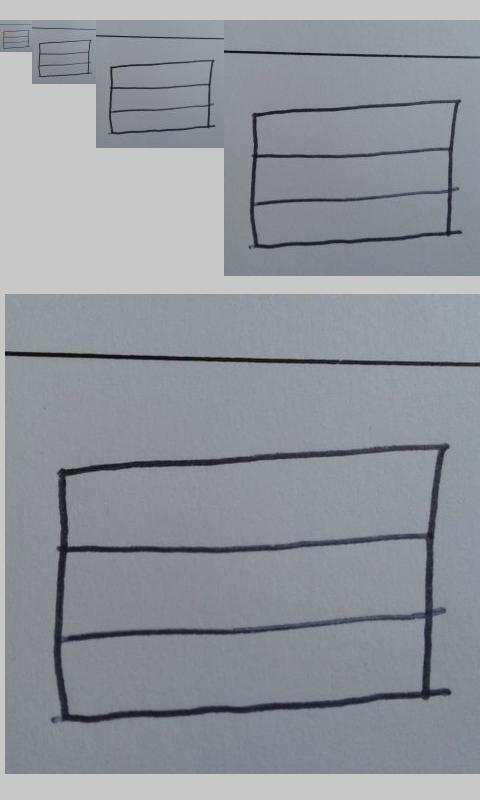list_view: (50, 439, 447, 723), (248, 98, 459, 251), (108, 58, 216, 135), (38, 39, 91, 78), (2, 29, 30, 49)
